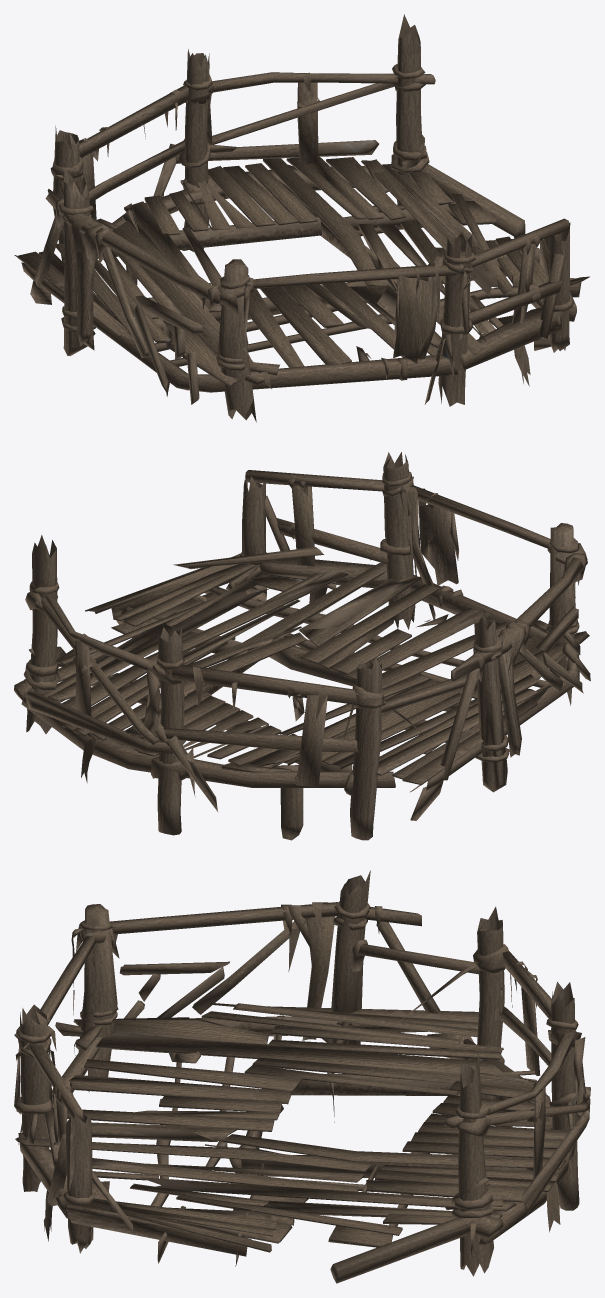
File: Meshy_AI_Broken_Timber_Platform_20261028_texture.fbx
The picture shows the model from 3 angles, top to bottom: view 1: azimuth 30°, elevation 25°; view 2: azimuth 150°, elevation 25°; view 3: azimuth 270°, elevation 25°; orthographic projection. The views are drawn at different scales.
Visible parts, largest first — view 1: Mesh_0; view 2: Mesh_0; view 3: Mesh_0.
Boxes of the visible parts, x1,y1,x2,y2 form: Mesh_0: [14, 14, 589, 422]; Mesh_0: [14, 452, 590, 840]; Mesh_0: [14, 870, 590, 1283].
Bounding box in the file's own units: 95.61 × 46.19 × 95.46.
1 material, 1 textured.
